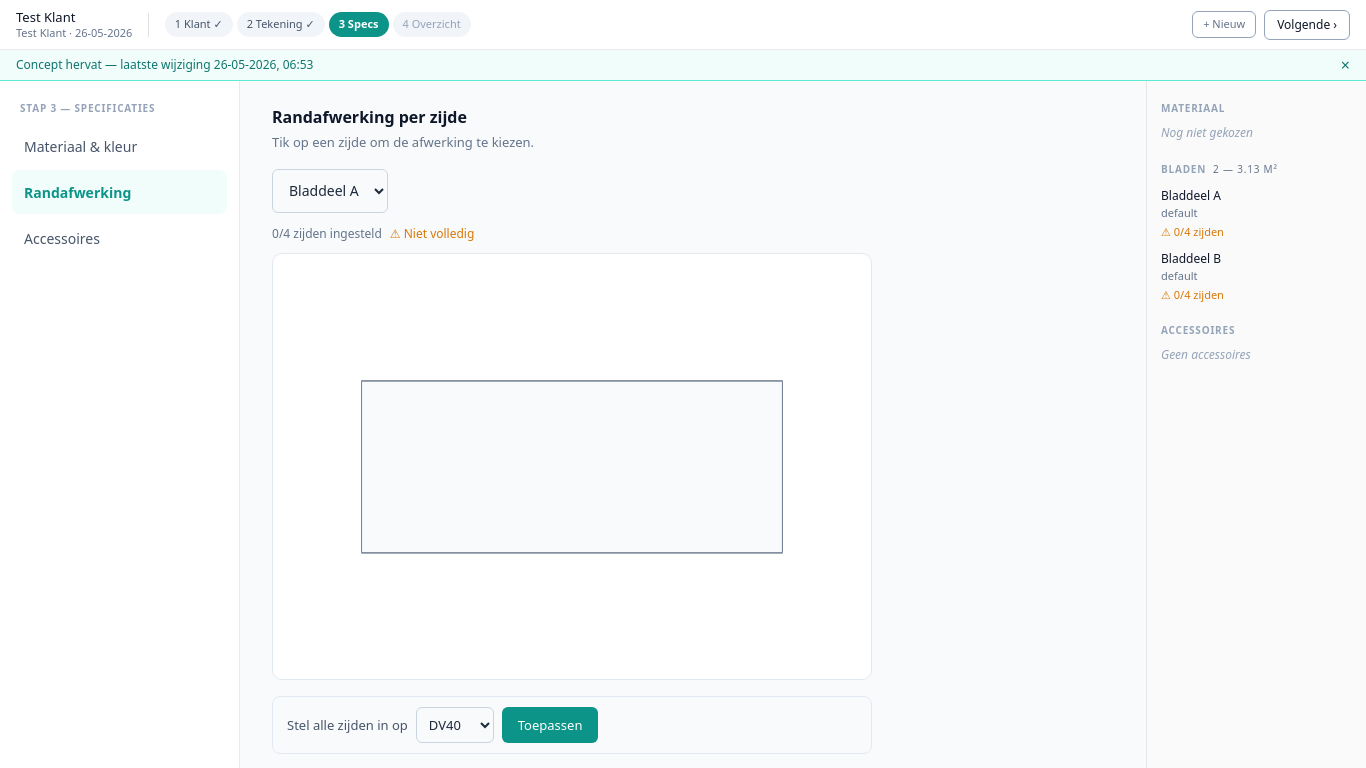
Test case: Scenario 4 — Nieuwe opname met confirm › bevestigen: Doorgaan wist localStorage en toont schone stap 1
This screenshot has width=1366, height=768.
Expected: the text "Concept hervat — laatste wijziging 26-05-2026, 06:53" is shown, [16,56,313,74]
Click the button "+ Nieuw" at (1224, 25), box [1192,11,1256,38]
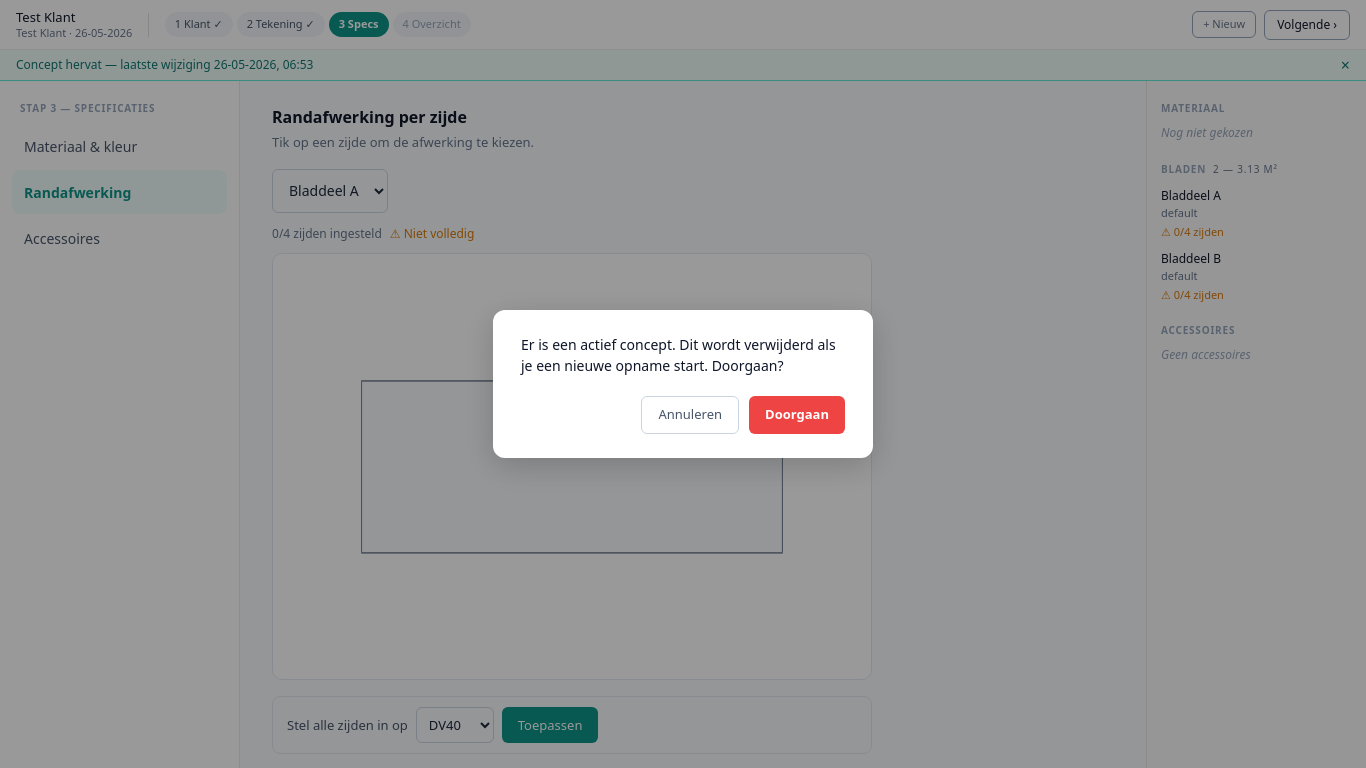
Expected: the text "actief concept" is shown, [521,335,836,375]
Click the button "Doorgaan" at (797, 415), box [749,396,845,434]
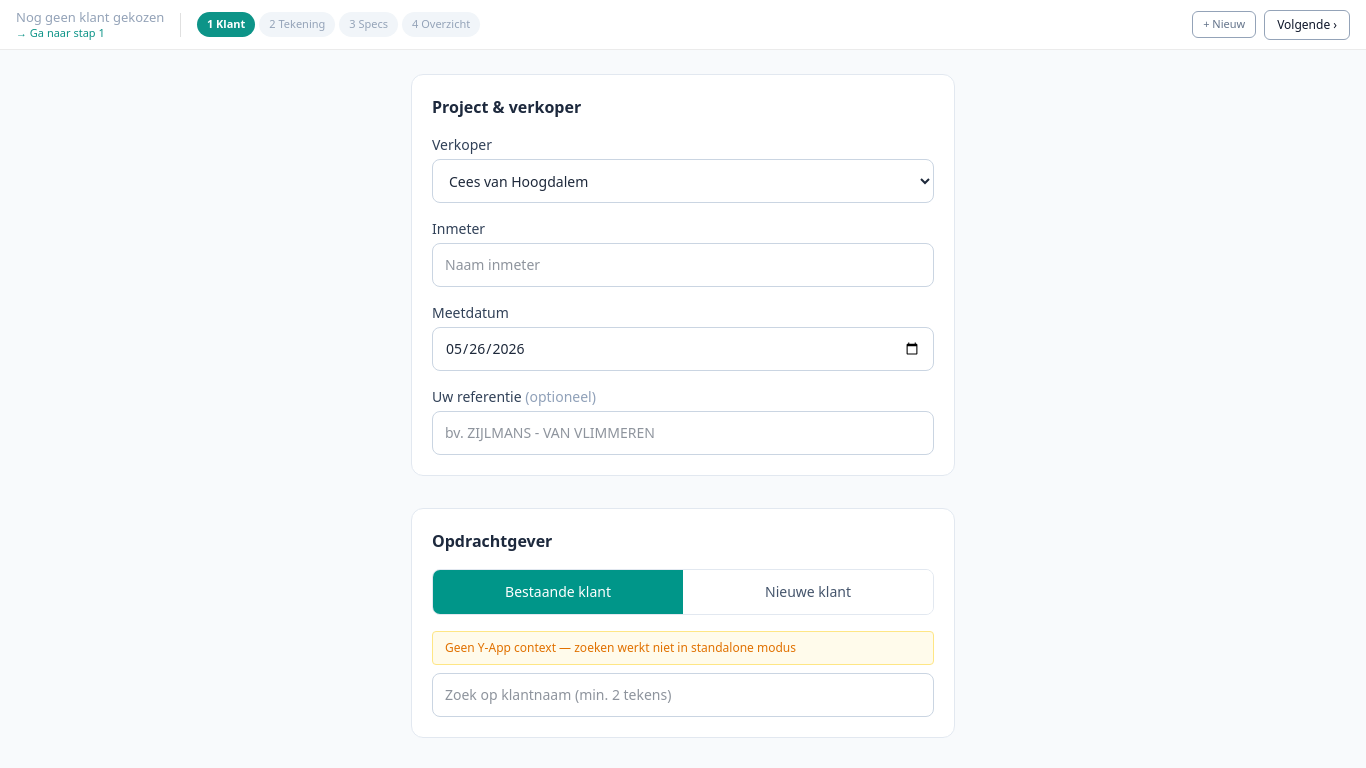
Expected: the text "Nog geen klant gekozen" is shown, [16,10,164,26]
